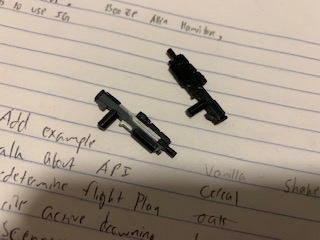rifle: (92, 88, 178, 163), (162, 48, 230, 127)
